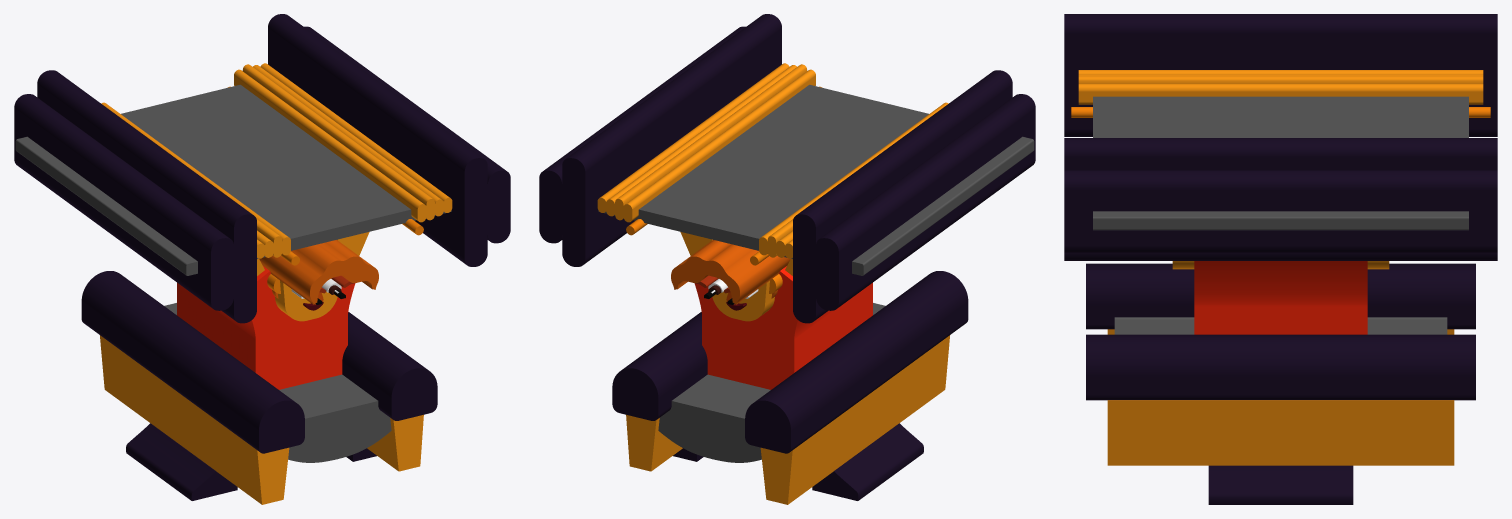
3 renders of one model, left to right at view 1: azimuth 30°, elevation 25°; view 2: azimuth 150°, elevation 25°; view 3: azimuth 270°, elevation 25°, orthographic. The views are drawn at different scales.
Visible parts, largest first — view 1: U+1F3CB_layer20_obj00, U+1F3CB_layer16_obj00, U+1F3CB_layer17_obj00, U+1F3CB_layer14_obj00, U+1F3CB_layer02_obj00, U+1F3CB_layer18_obj00, U+1F3CB_layer13_obj00, U+1F3CB_layer00_obj00, U+1F3CB_layer15_obj00, U+1F3CB_layer05_obj00; view 2: U+1F3CB_layer20_obj00, U+1F3CB_layer16_obj00, U+1F3CB_layer17_obj00, U+1F3CB_layer14_obj00, U+1F3CB_layer02_obj00, U+1F3CB_layer18_obj00, U+1F3CB_layer13_obj00, U+1F3CB_layer00_obj00, U+1F3CB_layer15_obj00, U+1F3CB_layer05_obj00; view 3: U+1F3CB_layer20_obj00, U+1F3CB_layer17_obj00, U+1F3CB_layer16_obj00, U+1F3CB_layer14_obj00, U+1F3CB_layer02_obj00, U+1F3CB_layer18_obj00, U+1F3CB_layer00_obj00, U+1F3CB_layer13_obj00, U+1F3CB_layer19_obj00.
Part boxes in pixels (left/top/right/bottom): U+1F3CB_layer20_obj00: left=14, top=14, right=510, bottom=323; U+1F3CB_layer16_obj00: left=15, top=84, right=451, bottom=275; U+1F3CB_layer17_obj00: left=81, top=271, right=437, bottom=453; U+1F3CB_layer14_obj00: left=100, top=335, right=423, bottom=504; U+1F3CB_layer02_obj00: left=177, top=266, right=355, bottom=389; U+1F3CB_layer18_obj00: left=101, top=63, right=452, bottom=258; U+1F3CB_layer13_obj00: left=164, top=303, right=391, bottom=462; U+1F3CB_layer00_obj00: left=126, top=423, right=376, bottom=500; U+1F3CB_layer15_obj00: left=259, top=240, right=378, bottom=304; U+1F3CB_layer05_obj00: left=275, top=280, right=337, bottom=321; U+1F3CB_layer20_obj00: left=539, top=14, right=1035, bottom=323; U+1F3CB_layer16_obj00: left=598, top=84, right=1034, bottom=275; U+1F3CB_layer17_obj00: left=612, top=271, right=968, bottom=453; U+1F3CB_layer14_obj00: left=626, top=335, right=949, bottom=504; U+1F3CB_layer02_obj00: left=694, top=266, right=872, bottom=389; U+1F3CB_layer18_obj00: left=597, top=63, right=948, bottom=258; U+1F3CB_layer13_obj00: left=658, top=303, right=885, bottom=462; U+1F3CB_layer00_obj00: left=673, top=423, right=923, bottom=500; U+1F3CB_layer15_obj00: left=671, top=240, right=790, bottom=304; U+1F3CB_layer05_obj00: left=712, top=280, right=774, bottom=321; U+1F3CB_layer20_obj00: left=1064, top=14, right=1497, bottom=260; U+1F3CB_layer17_obj00: left=1086, top=263, right=1475, bottom=400; U+1F3CB_layer16_obj00: left=1093, top=96, right=1468, bottom=230; U+1F3CB_layer14_obj00: left=1107, top=329, right=1454, bottom=465; U+1F3CB_layer02_obj00: left=1194, top=261, right=1367, bottom=334; U+1F3CB_layer18_obj00: left=1078, top=70, right=1483, bottom=104; U+1F3CB_layer00_obj00: left=1208, top=465, right=1353, bottom=504; U+1F3CB_layer13_obj00: left=1114, top=317, right=1447, bottom=334; U+1F3CB_layer19_obj00: left=1071, top=107, right=1490, bottom=117.
Size of the model in its own units: 0.5678 by 0.5677 by 0.6.
